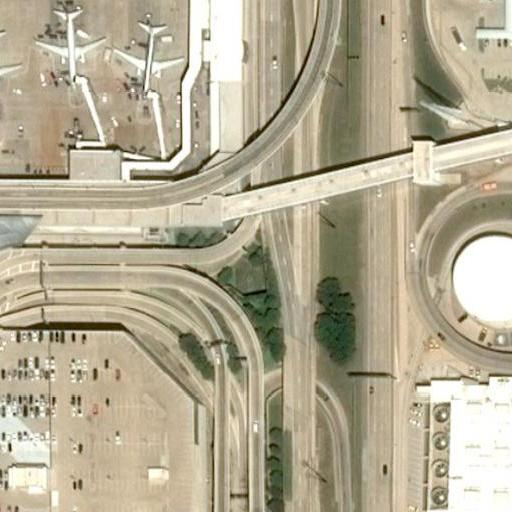Aircraft: (37, 4, 108, 85), (117, 24, 183, 102), (0, 24, 19, 105)
